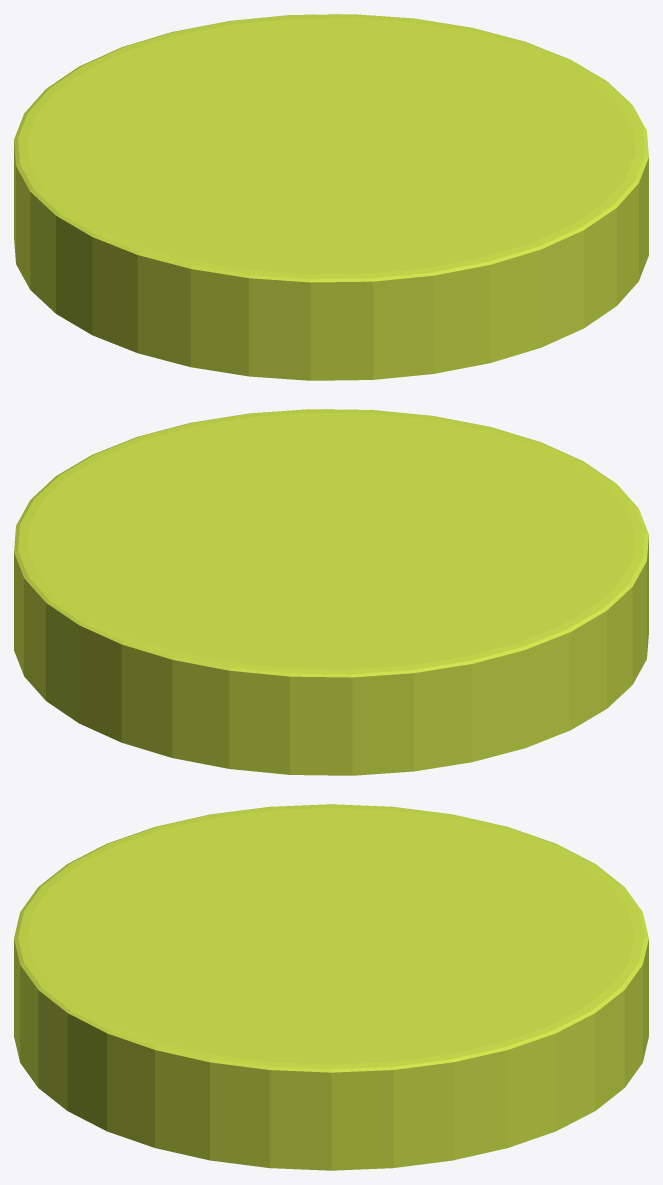
File: florasan.fbx
3 views of the same model, one above another, from view 1: azimuth 30°, elevation 25°; view 2: azimuth 150°, elevation 25°; view 3: azimuth 270°, elevation 25° (orthographic).
Parts seen in each view (by area): view 1: Cylinder; view 2: Cylinder; view 3: Cylinder.
Boxes of the visible parts, x1=… form: Cylinder: x1=14, y1=14, x2=648, y2=380; Cylinder: x1=14, y1=409, x2=648, y2=775; Cylinder: x1=14, y1=804, x2=648, y2=1170.
Size of the model in its own units: 2 by 0.3484 by 2.
